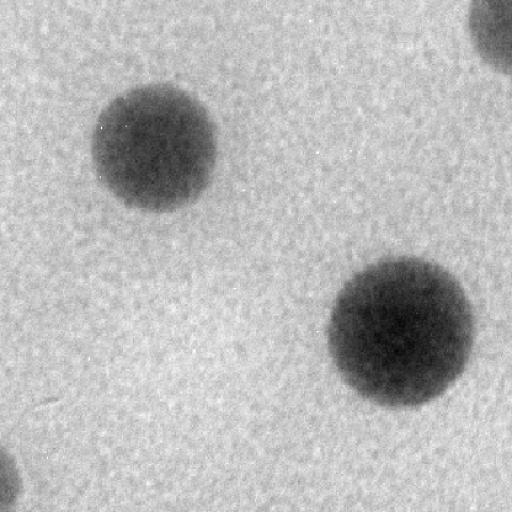Nanoparticles: (326, 256, 476, 408), (91, 81, 222, 211), (468, 2, 510, 78), (1, 445, 23, 509)
